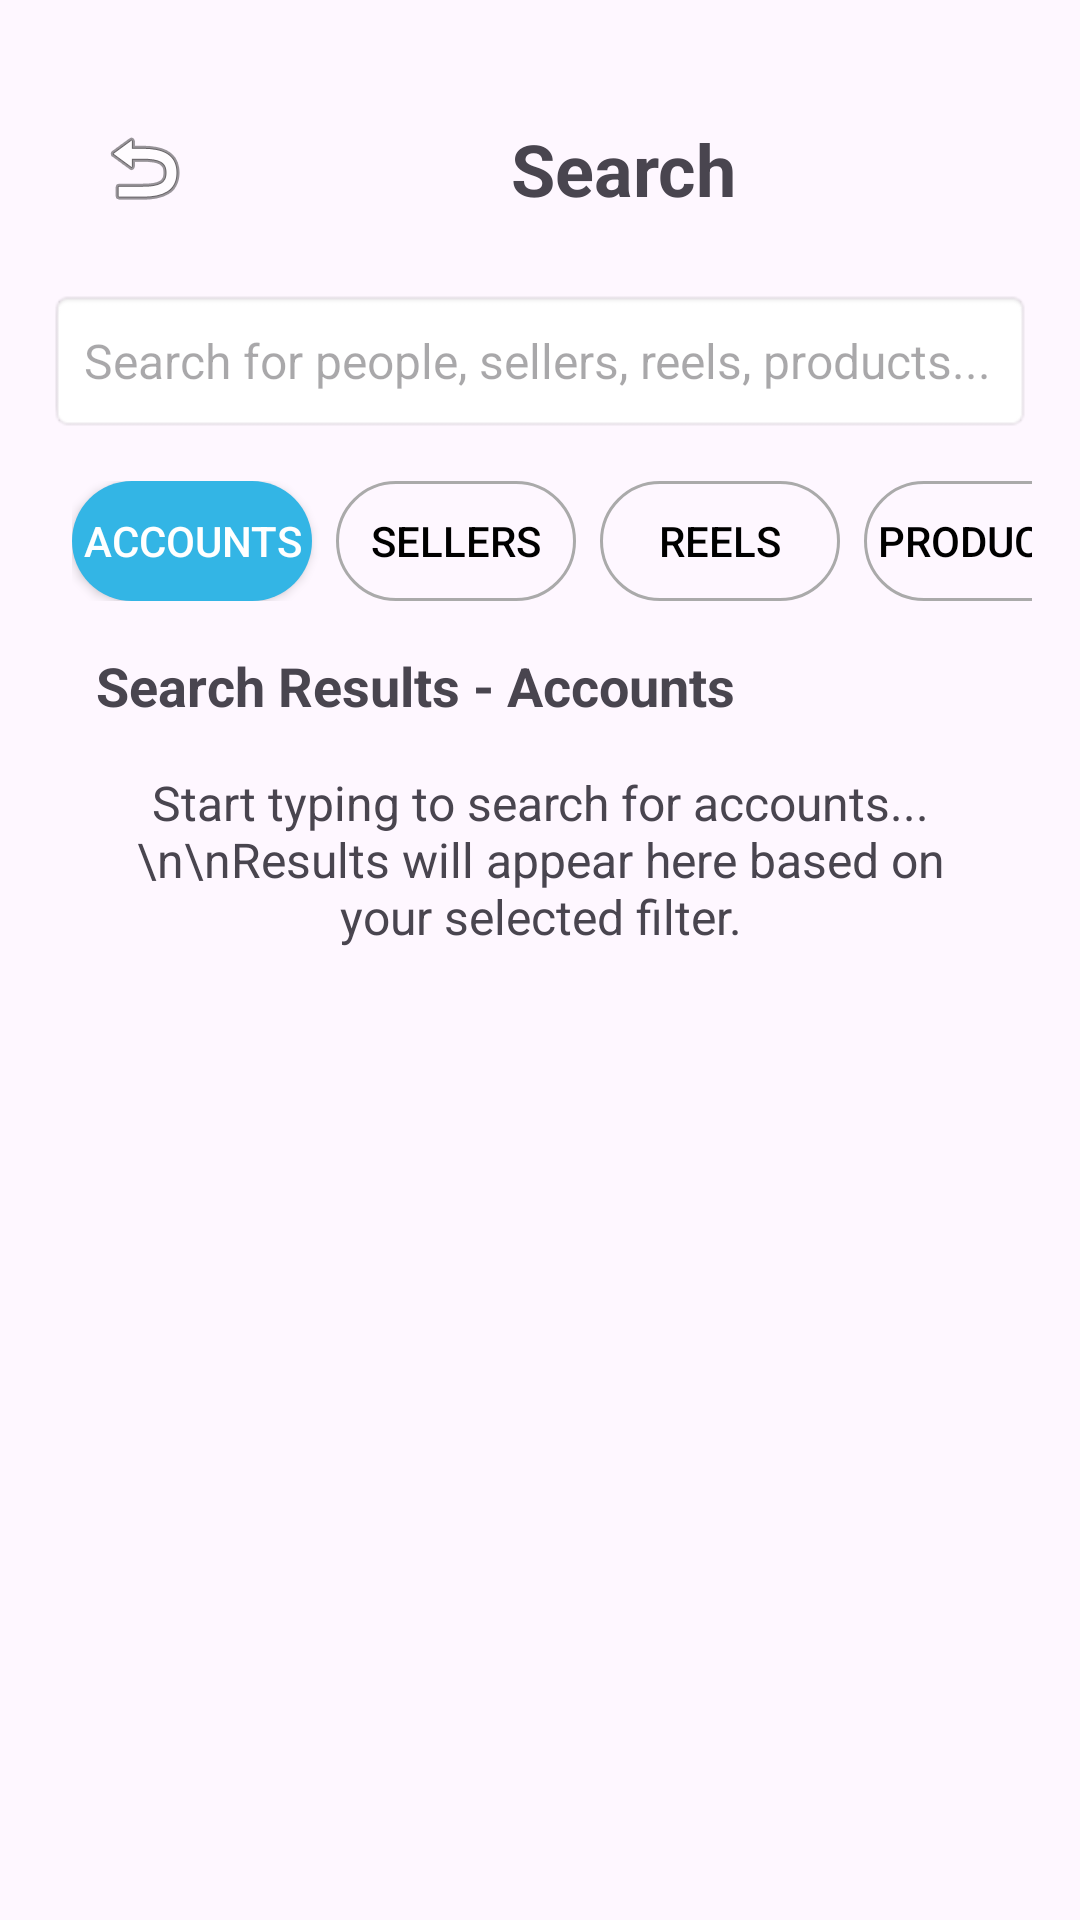

Screen size 1080px×1920px. Icon name, then its center in pixels as [x,y]:
Back: [145,168]
